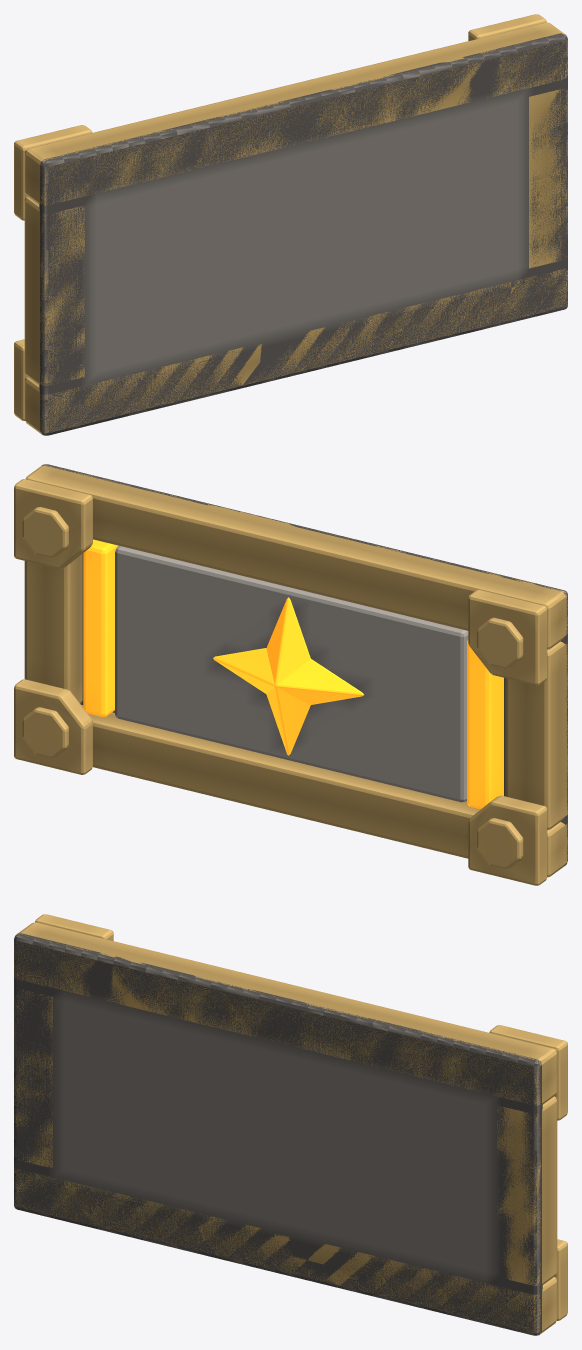
Rendered from board_push_3.glb.
3 renders of one model, top to bottom at view 1: azimuth 30°, elevation 25°; view 2: azimuth 150°, elevation 25°; view 3: azimuth 330°, elevation 25°, orthographic.
Visible parts, largest first — view 1: Back, FrameT, FrameB, FrameL, FrameR, Bolt1, Bolt3, Bolt0; view 2: Panel, FrameT, FrameB, FrameL, Gem, FrameR, Bar1, Bar0, Bolt1, Bolt2, Bolt3, Bolt0 (+5 smaller); view 3: Back, FrameT, FrameB, FrameR, FrameL, Bolt0, Bolt2, Bolt1.
Part boxes in pixels (<box>): Back: <box>39,33,567,435</box>; FrameT: <box>24,22,567,205</box>; FrameB: <box>24,268,567,434</box>; FrameL: <box>24,196,84,385</box>; FrameR: <box>529,89,567,268</box>; Bolt1: <box>14,125,92,220</box>; Bolt3: <box>14,339,27,420</box>; Bolt0: <box>468,14,546,40</box>; Panel: <box>115,546,468,802</box>; FrameT: <box>25,465,567,649</box>; FrameB: <box>81,704,567,877</box>; FrameL: <box>505,641,567,829</box>; Gem: <box>213,597,363,755</box>; FrameR: <box>24,554,82,703</box>; Bar1: <box>83,539,118,716</box>; Bar0: <box>467,639,503,809</box>; Bolt1: <box>468,590,547,685</box>; Bolt2: <box>14,679,92,774</box>; Bolt3: <box>468,795,547,885</box>; Bolt0: <box>14,479,92,569</box>; Back: <box>14,933,542,1335</box>; FrameT: <box>14,922,557,1105</box>; FrameB: <box>14,1169,557,1334</box>; FrameR: <box>497,1096,557,1285</box>; FrameL: <box>14,988,52,1167</box>; Bolt0: <box>489,1025,567,1120</box>; Bolt2: <box>554,1239,567,1320</box>; Bolt1: <box>35,914,113,940</box>.
Bounding box in the file's own units: 1 × 0.5 × 0.12.
